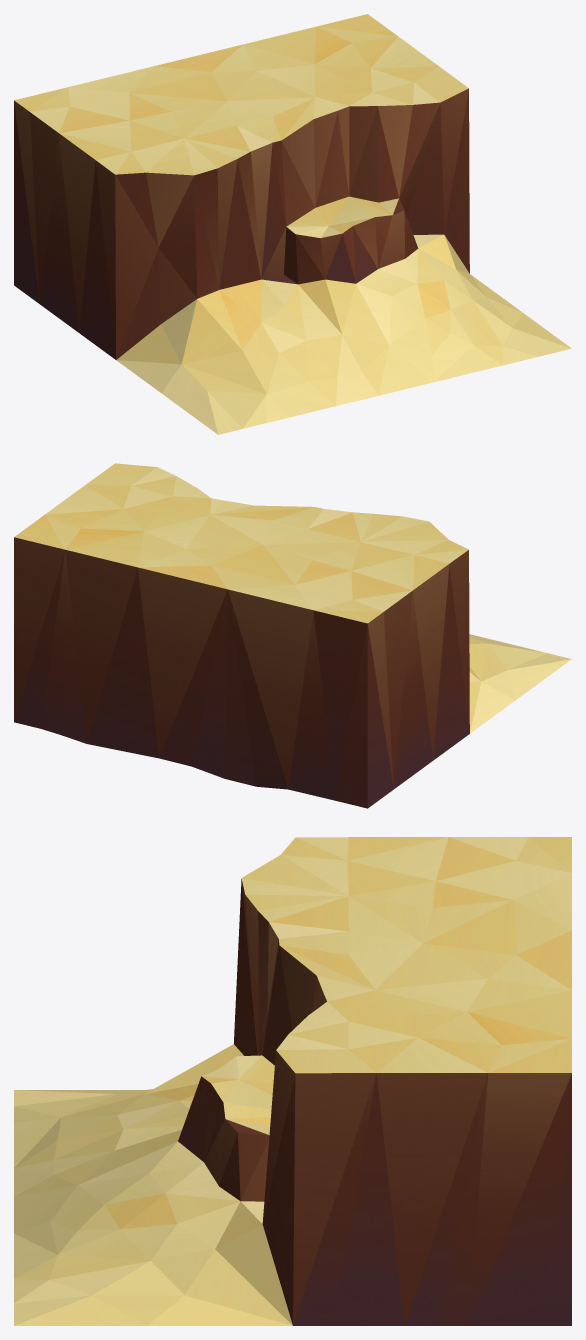
Rendered from GL-Terrain-part-18-LOD2.fbx.
3 renders of one model, top to bottom at view 1: azimuth 30°, elevation 25°; view 2: azimuth 150°, elevation 25°; view 3: azimuth 270°, elevation 25°, orthographic. The views are drawn at different scales.
Parts seen in each view (by area): view 1: GL_Terrain_part_18; view 2: GL_Terrain_part_18; view 3: GL_Terrain_part_18.
Boxes of the visible parts, x1=… form: GL_Terrain_part_18: x1=14, y1=14, x2=571, y2=434; GL_Terrain_part_18: x1=14, y1=463, x2=571, y2=808; GL_Terrain_part_18: x1=14, y1=837, x2=571, y2=1325.
Size of the model in its own units: 6 by 3.11 by 6.
